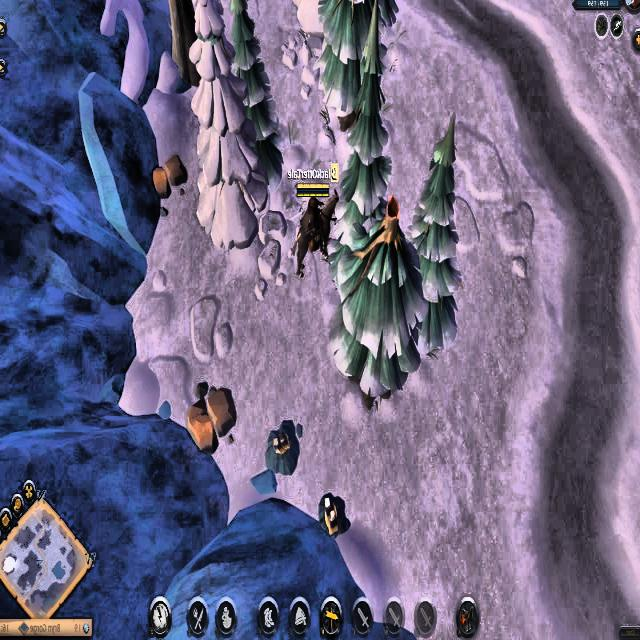copperore: (268, 414, 303, 478), (315, 492, 353, 534)
limestone: (185, 384, 238, 451), (152, 151, 188, 205)
